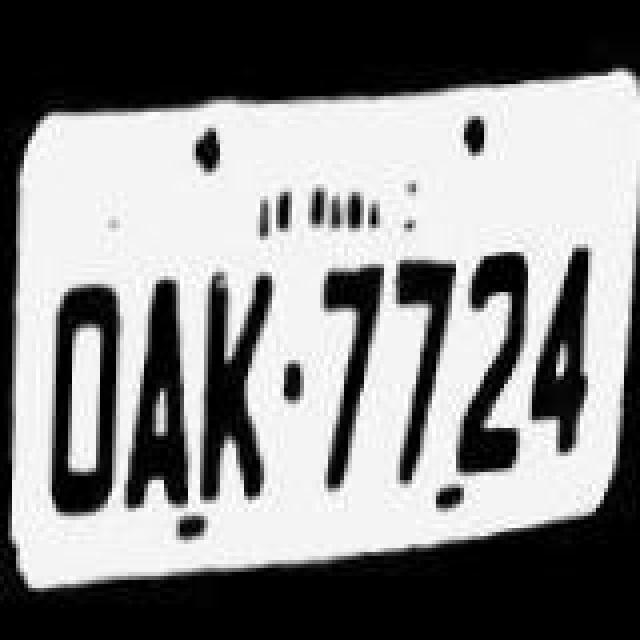2: (446, 228, 534, 484)
4: (522, 232, 598, 464)
7: (308, 248, 392, 504), (382, 238, 462, 486)
A: (118, 262, 198, 510)
K: (194, 264, 274, 512)
O: (40, 274, 132, 526)
